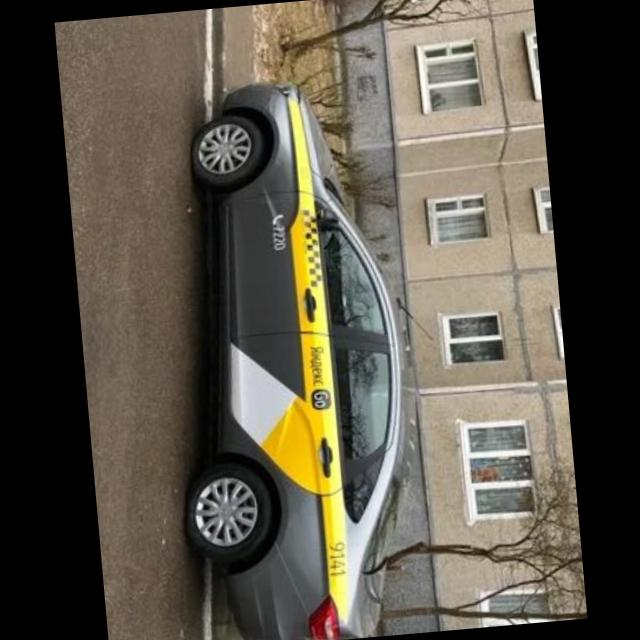taxi: (148, 71, 430, 640)
